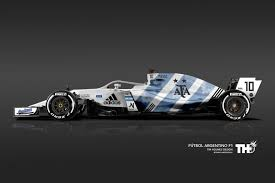f1_car: (7, 63, 266, 133)
